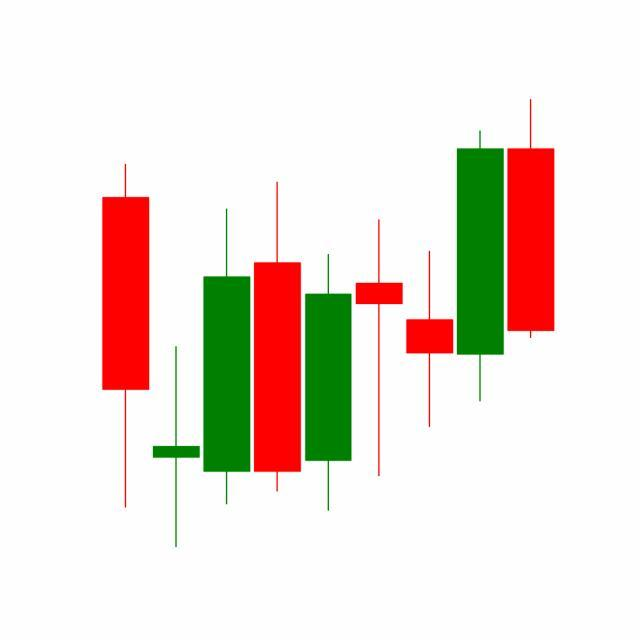Hikkake Pattern: (252, 127, 506, 516)
